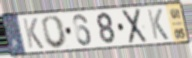6: (73, 14, 93, 47)
8: (96, 12, 117, 46)
K: (21, 17, 46, 50), (146, 8, 170, 41)
O: (41, 14, 69, 50)
X: (121, 7, 149, 46)
